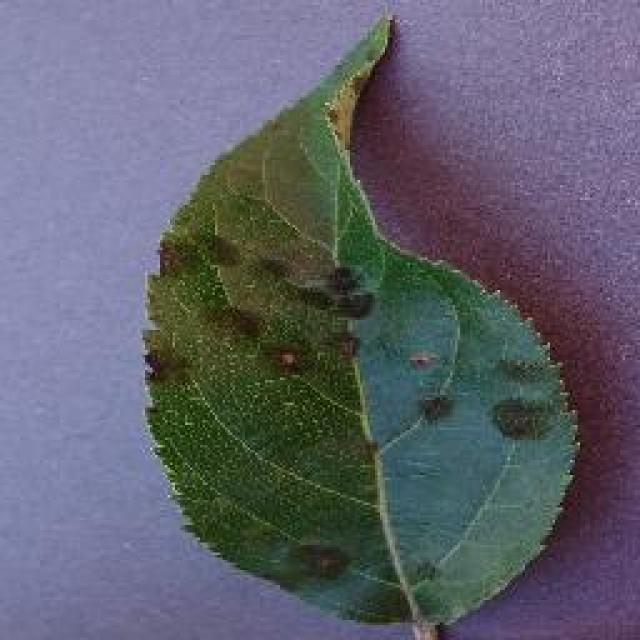apple scab disease: (137, 8, 585, 638)
